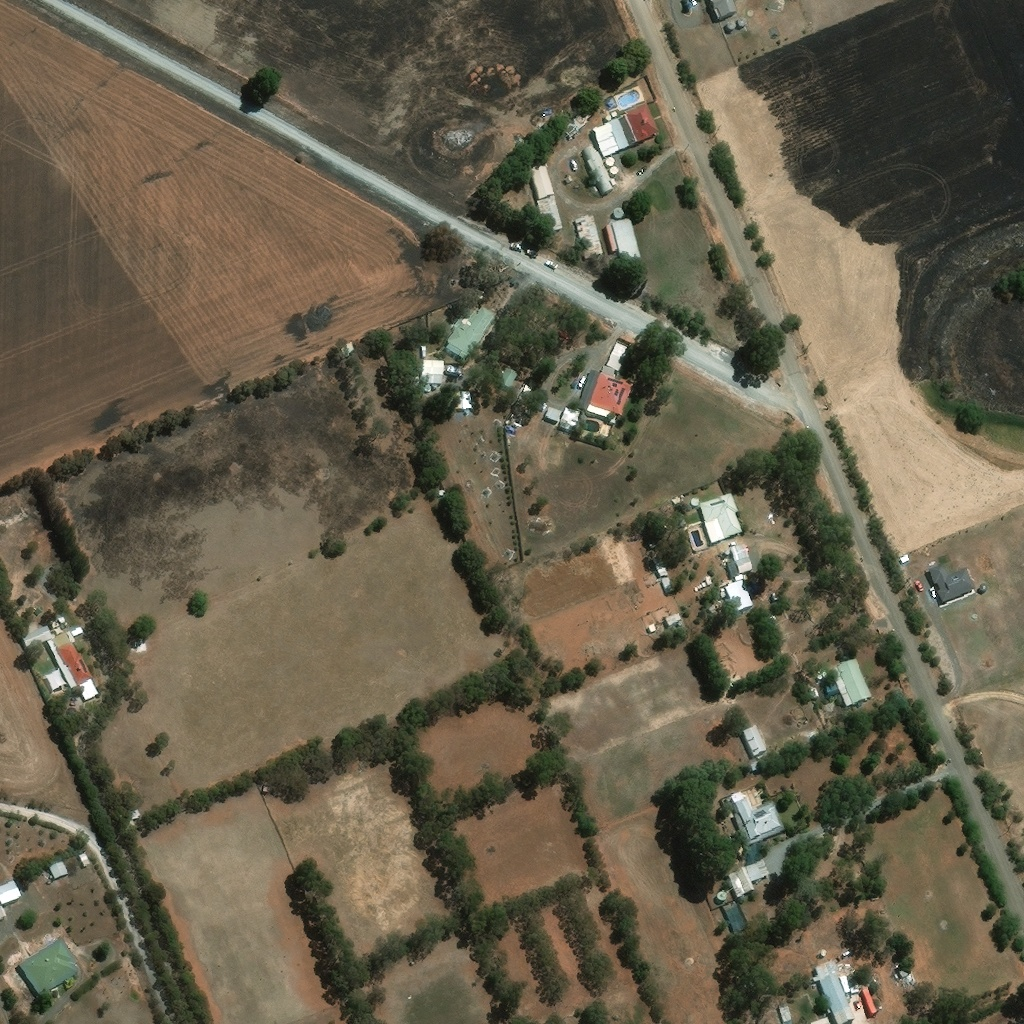0 no-damage: (16, 941, 77, 999), (593, 103, 660, 155), (576, 364, 634, 421), (445, 304, 497, 362), (731, 789, 785, 843), (813, 959, 856, 1023), (46, 631, 90, 690), (699, 492, 743, 542), (927, 562, 978, 604), (612, 216, 645, 278), (830, 656, 871, 705), (727, 857, 771, 897), (582, 143, 615, 193), (575, 215, 603, 256), (722, 898, 751, 932), (726, 578, 753, 613), (537, 195, 563, 229), (529, 162, 553, 198), (727, 541, 753, 573), (20, 626, 51, 650), (742, 725, 766, 754), (607, 341, 627, 369), (421, 358, 444, 381), (0, 886, 19, 911), (655, 559, 672, 586), (76, 681, 97, 702), (45, 670, 65, 691), (498, 367, 517, 386), (453, 388, 472, 407), (606, 222, 619, 249), (48, 865, 67, 883), (823, 696, 842, 712), (779, 1003, 794, 1023), (666, 611, 683, 626), (76, 854, 90, 869), (545, 405, 561, 418), (341, 341, 357, 354), (126, 813, 140, 824), (676, 510, 687, 524), (715, 889, 727, 901), (898, 967, 910, 978), (613, 206, 624, 216), (750, 760, 760, 770), (522, 382, 532, 392), (737, 16, 747, 26), (725, 21, 736, 30), (690, 495, 699, 504), (648, 622, 657, 630), (705, 574, 713, 581)
1 minor-damage: (559, 405, 583, 427)
